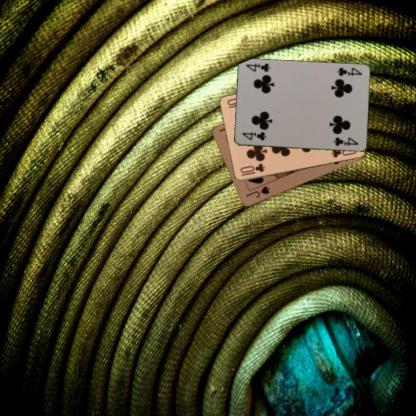10c: (237, 162, 266, 178)
4c: (334, 66, 363, 78), (239, 130, 267, 142)
Js: (243, 184, 271, 199)
